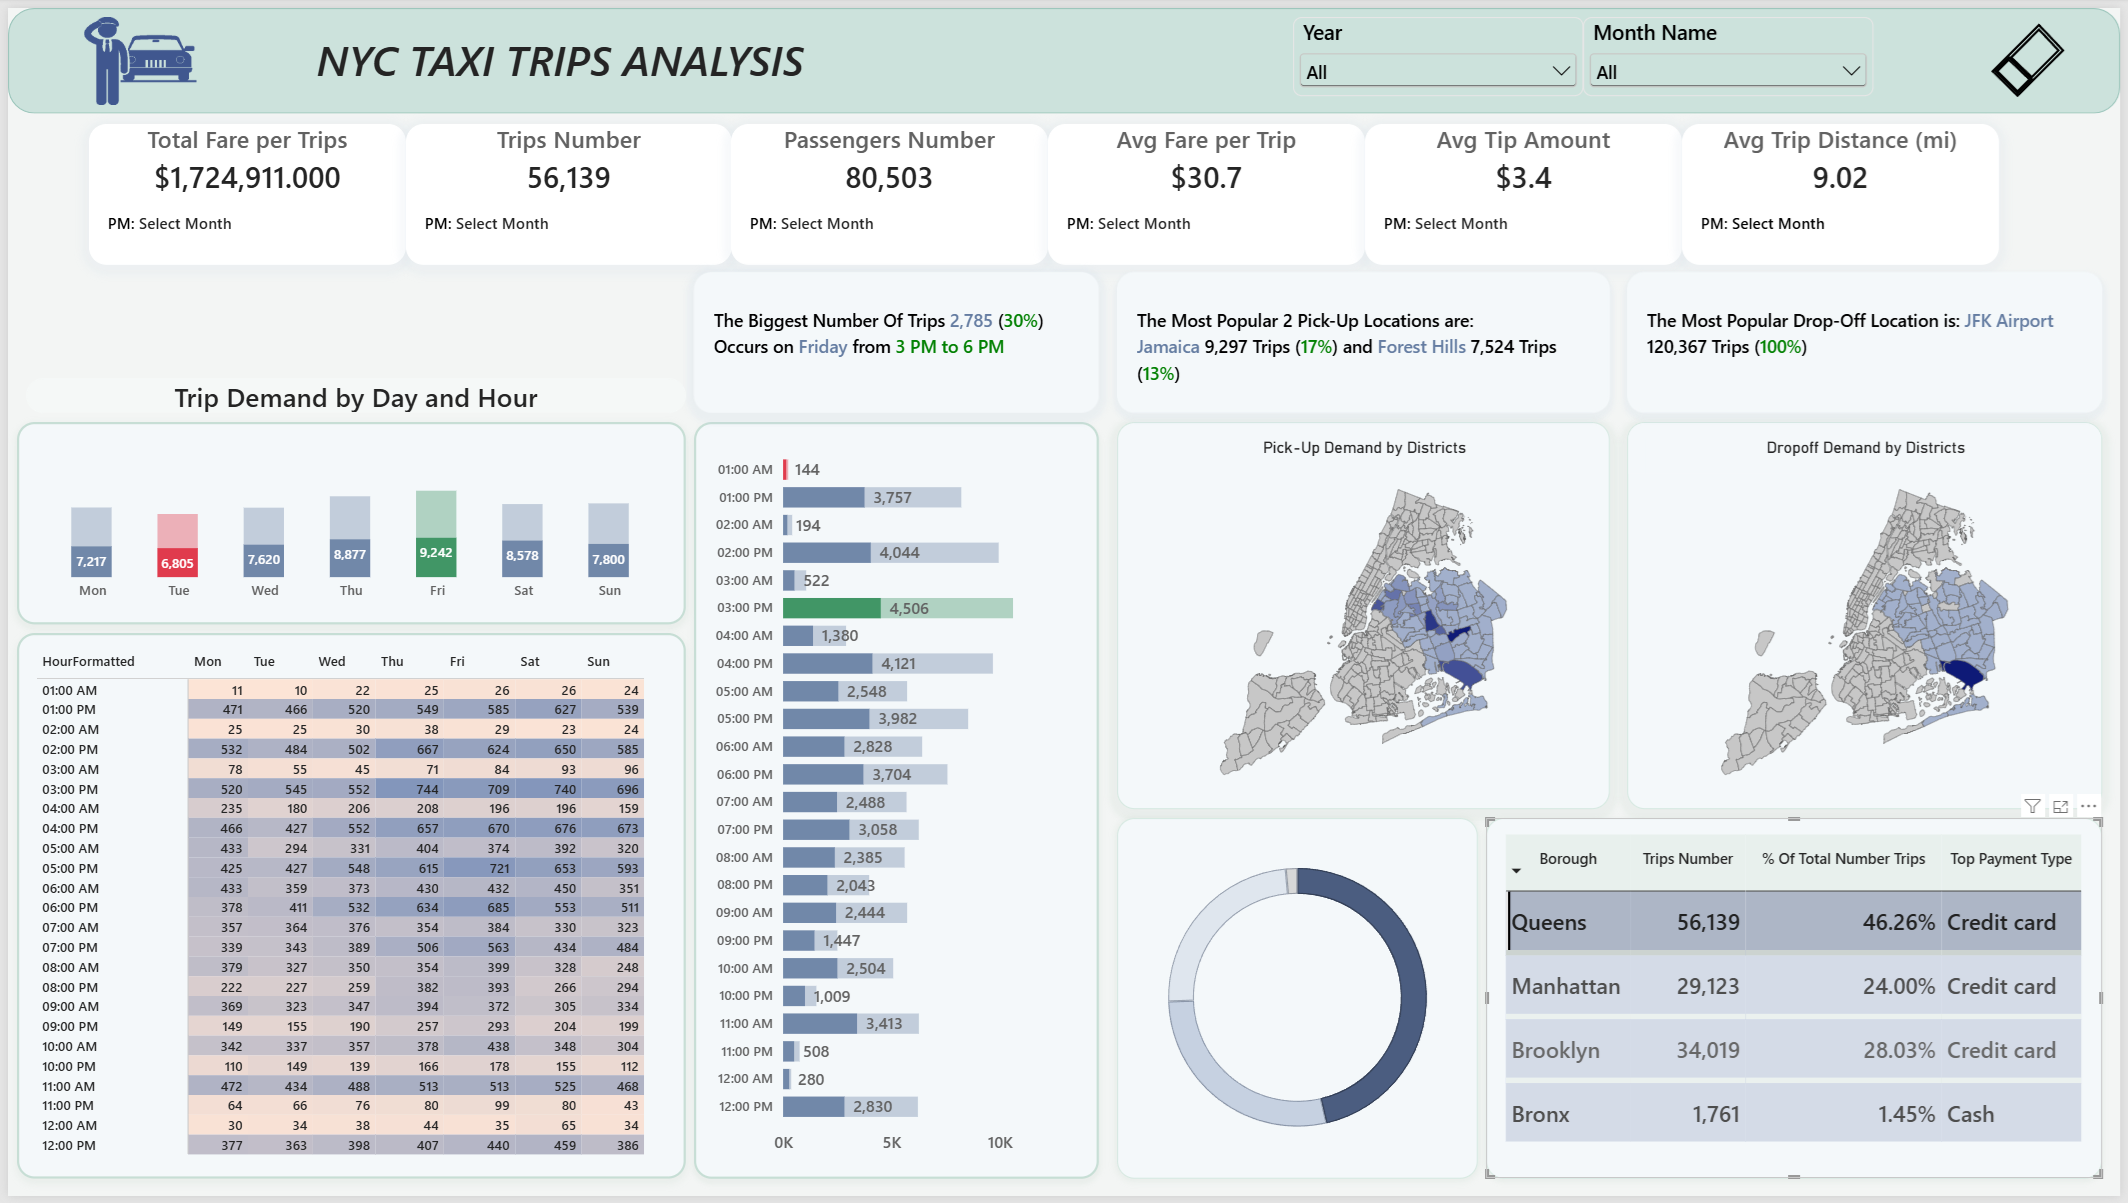

What the dashboard file says about the page in this screenshot:
{"tool":"powerbi","page":{"name":"New York Taxi","canvas":[1920,1080],"ordinal":0},"visuals":[{"type":"shape","box":[0,0,1920,96],"z":0},{"type":"slicer","fields":{"Values":["Dim Date.Year"]},"box":[1168,8,264,72],"z":1000},{"type":"slicer","fields":{"Values":["Dim Date.Month Name"]},"box":[1432,8,264,72],"z":2000},{"type":"cardVisual","fields":{"Data":["_Measures.Total Fare per Trips"]},"box":[73.5,105.1,288,128],"z":3000},{"type":"cardVisual","fields":{"Data":["_Measures.Trips Num"]},"box":[361.5,105.1,296,128],"z":4000},{"type":"cardVisual","fields":{"Data":["_Measures.Passengers Num"]},"box":[657.5,105.1,288,128],"z":5000},{"type":"cardVisual","fields":{"Data":["_Measures.AVG Fare per Trip"]},"box":[945.5,105.1,288,128],"z":6000},{"type":"cardVisual","fields":{"Data":["_Measures.Avg Tip Amount"]},"box":[1233.5,105.1,288,128],"z":7000},{"type":"cardVisual","fields":{"Data":["_Measures.Avg Trip Distance"]},"box":[1521.5,105.1,288,128],"z":8000},{"type":"shapeMap","title":"Pick-Up Demand by Districts","fields":{"Category":["TaxiZones.Zone"],"Value":["_Measures.Trips Number"]},"box":[1008,376,448,352],"z":9000},{"type":"shapeMap","title":" Dropoff  Demand by Districts","fields":{"Category":["TaxiZones.Zone"],"Value":["_Measures.Trips Number Dropoff Location"]},"box":[1472,376,432,352],"z":10000},{"type":"tableEx","fields":{"Values":["TaxiZones.Borough","_Measures.Trips Number","_Measures.% Of Total Number Trips","_Measures.Top Payment Type"]},"box":[1344,736,560,328],"z":11000},{"type":"textbox","box":[384,760,168,40],"z":12000},{"type":"textbox","box":[384,800,168,48],"z":13000},{"type":"textbox","box":[384,848,168,40],"z":14000},{"type":"donutChart","fields":{"Category":["TaxiZones.Borough"],"Y":["_Measures.Trips Number"]},"box":[1008,736,328,328],"z":15000},{"type":"pivotTable","fields":{"Columns":["Dim Date.Week Day"],"Rows":["HourTable.HourFormatted"],"Values":["_Measures.Trip Num for Martix (No Blanks)"]},"box":[8,568,608,496],"z":16000},{"type":"clusteredBarChart","fields":{"Category":["HourTable.HourFormatted"],"Y":["_Measures.Trip Num for Martix (No Blanks)"]},"box":[624,376,368,688],"z":17000},{"type":"clusteredColumnChart","fields":{"Category":["Dim Date.Week Day"],"Y":["_Measures.Trip Num for Martix (No Blanks)"]},"box":[8,376,608,184],"z":18000},{"type":"htmlContent443BE3AD55E043BF878BED274D3A6865","title":"Number of Trips by Days of Week and Time","fields":{"content":["_Measures.Trips Number Summary HTML"]},"box":[624,240,368,128],"z":19000},{"type":"htmlContent443BE3AD55E043BF878BED274D3A6865","fields":{"content":["_Measures.Top 2 Pick Up Zones HTML with %"]},"box":[1008,240,448,128],"z":20000},{"type":"htmlContent443BE3AD55E043BF878BED274D3A6865","fields":{"content":["_Measures.Top 1 Drop-Off Zone HTML with %"]},"box":[1472,240,432,128],"z":21000},{"type":"actionButton","box":[1776,8,120,80],"z":22000},{"type":"image","box":[16,8,208,80],"z":23000},{"type":"textbox","box":[250,22,504,53],"z":24000},{"type":"cardVisual","fields":{"Data":["_Measures.Trip Demand by Day and Hour"]},"box":[16,336,600,32],"z":24001}]}

Visuals, with their boxes in screenshot pixels (x1, y1, x2, y2), scaled from the page's 1920x1080 canvas onto the 2128x1203 screenshot:
shape: pyautogui.locateOnScreen(0, 0, 2127, 107)
slicer - Dim Date.Year: pyautogui.locateOnScreen(1295, 9, 1587, 89)
slicer - Dim Date.Month Name: pyautogui.locateOnScreen(1587, 9, 1880, 89)
cardVisual - _Measures.Total Fare per Trips: pyautogui.locateOnScreen(81, 117, 401, 260)
cardVisual - _Measures.Trips Num: pyautogui.locateOnScreen(401, 117, 729, 260)
cardVisual - _Measures.Passengers Num: pyautogui.locateOnScreen(729, 117, 1048, 260)
cardVisual - _Measures.AVG Fare per Trip: pyautogui.locateOnScreen(1048, 117, 1367, 260)
cardVisual - _Measures.Avg Tip Amount: pyautogui.locateOnScreen(1367, 117, 1686, 260)
cardVisual - _Measures.Avg Trip Distance: pyautogui.locateOnScreen(1686, 117, 2006, 260)
"Pick-Up Demand by Districts" shapeMap: pyautogui.locateOnScreen(1117, 419, 1614, 811)
" Dropoff  Demand by Districts" shapeMap: pyautogui.locateOnScreen(1631, 419, 2110, 811)
tableEx - TaxiZones.Borough x _Measures.Trips Number: pyautogui.locateOnScreen(1490, 820, 2110, 1185)
textbox: pyautogui.locateOnScreen(426, 847, 612, 891)
textbox: pyautogui.locateOnScreen(426, 891, 612, 945)
textbox: pyautogui.locateOnScreen(426, 945, 612, 989)
donutChart - TaxiZones.Borough x _Measures.Trips Number: pyautogui.locateOnScreen(1117, 820, 1481, 1185)
pivotTable - Dim Date.Week Day x HourTable.HourFormatted: pyautogui.locateOnScreen(9, 633, 683, 1185)
clusteredBarChart - HourTable.HourFormatted x _Measures.Trip Num for Martix (No Blanks): pyautogui.locateOnScreen(692, 419, 1099, 1185)
clusteredColumnChart - Dim Date.Week Day x _Measures.Trip Num for Martix (No Blanks): pyautogui.locateOnScreen(9, 419, 683, 624)
"Number of Trips by Days of Week and Time" htmlContent443BE3AD55E043BF878BED274D3A6865: pyautogui.locateOnScreen(692, 267, 1099, 410)
htmlContent443BE3AD55E043BF878BED274D3A6865 - _Measures.Top 2 Pick Up Zones HTML with %: pyautogui.locateOnScreen(1117, 267, 1614, 410)
htmlContent443BE3AD55E043BF878BED274D3A6865 - _Measures.Top 1 Drop-Off Zone HTML with %: pyautogui.locateOnScreen(1631, 267, 2110, 410)
actionButton: pyautogui.locateOnScreen(1968, 9, 2101, 98)
image: pyautogui.locateOnScreen(18, 9, 248, 98)
textbox: pyautogui.locateOnScreen(277, 25, 836, 84)
cardVisual - _Measures.Trip Demand by Day and Hour: pyautogui.locateOnScreen(18, 374, 683, 410)
